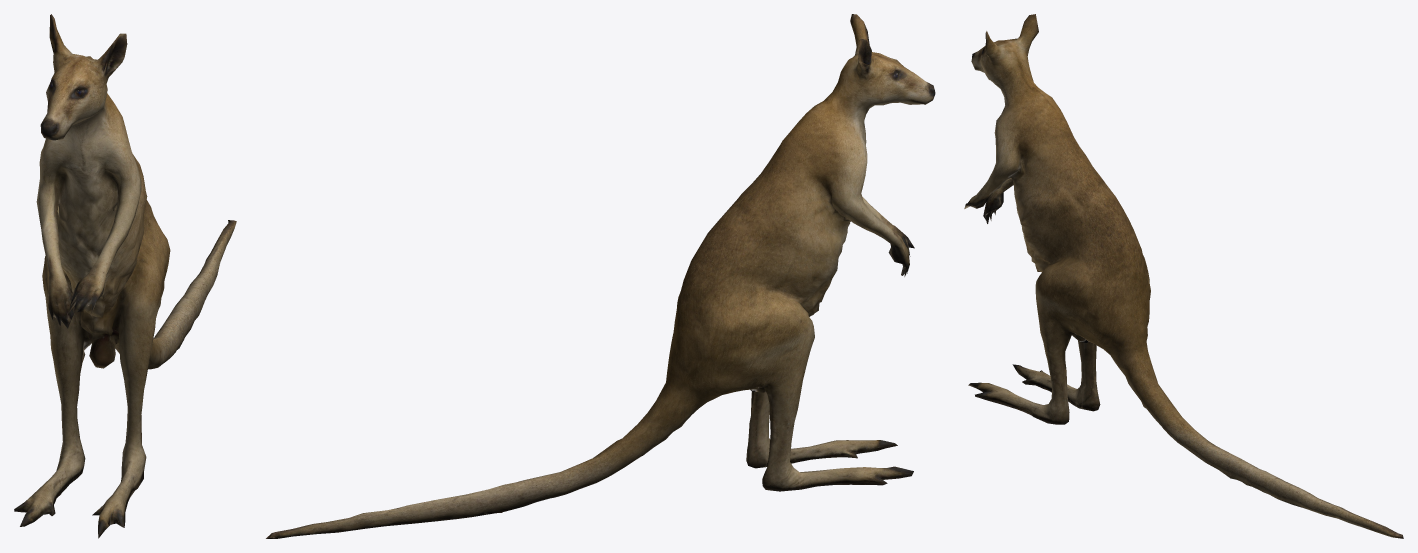
The model's file is kangoru.fbx.
3 views of the same model, side by side, from view 1: azimuth 30°, elevation 25°; view 2: azimuth 150°, elevation 25°; view 3: azimuth 270°, elevation 25° (orthographic). The views are drawn at different scales.
Parts seen in each view (by area): view 1: nsmt_m32011_RedKangaroo_forSK_01; view 2: nsmt_m32011_RedKangaroo_forSK_01; view 3: nsmt_m32011_RedKangaroo_forSK_01.
Part boxes in pixels (left/top/right/bottom): nsmt_m32011_RedKangaroo_forSK_01: left=14, top=14, right=236, bottom=538; nsmt_m32011_RedKangaroo_forSK_01: left=266, top=14, right=935, bottom=538; nsmt_m32011_RedKangaroo_forSK_01: left=964, top=14, right=1403, bottom=538.
Size of the model in its own units: 215 by 215 by 230.
